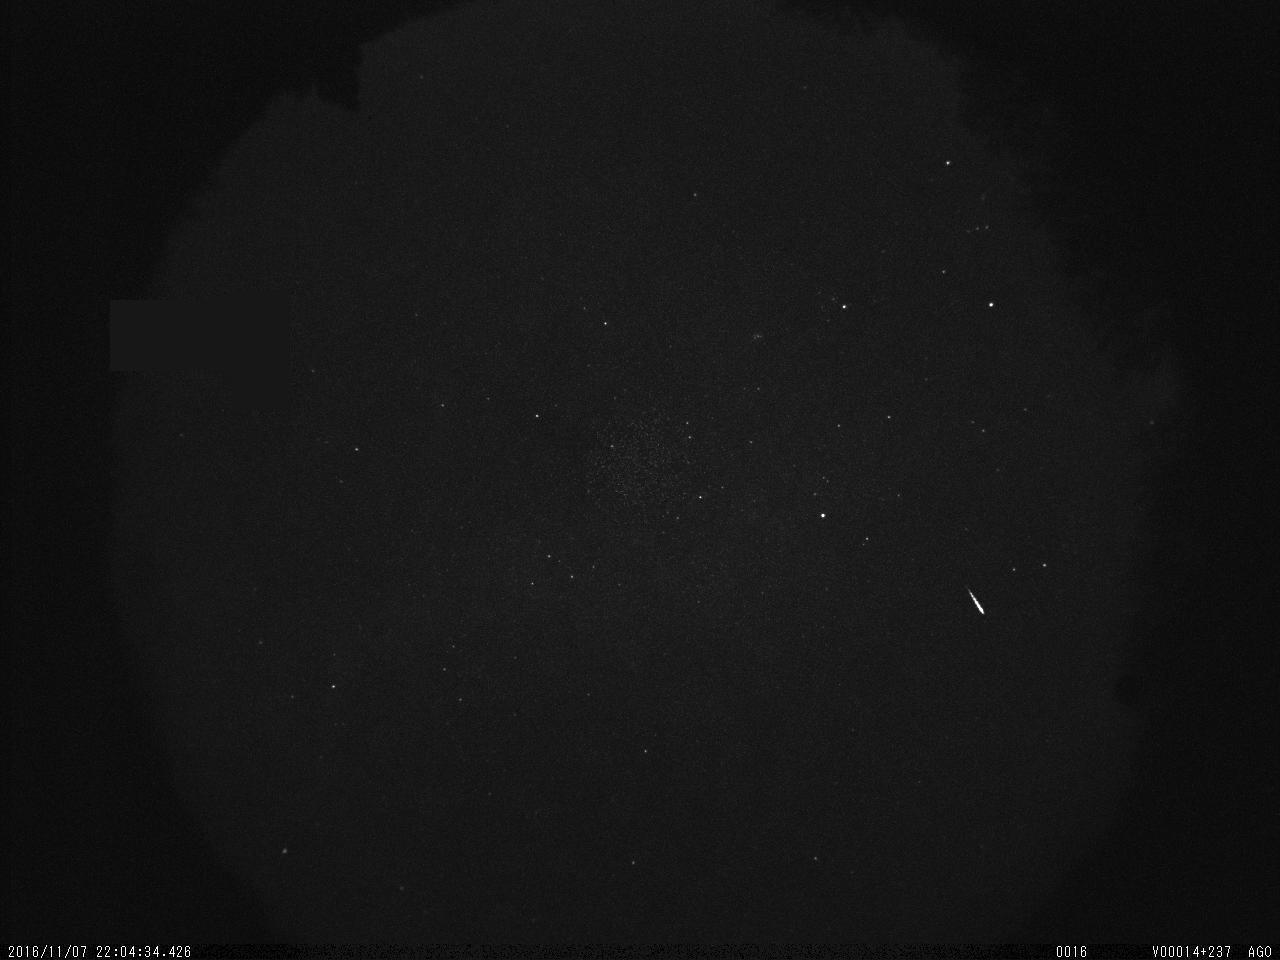Meteor: (965, 587, 988, 613)
